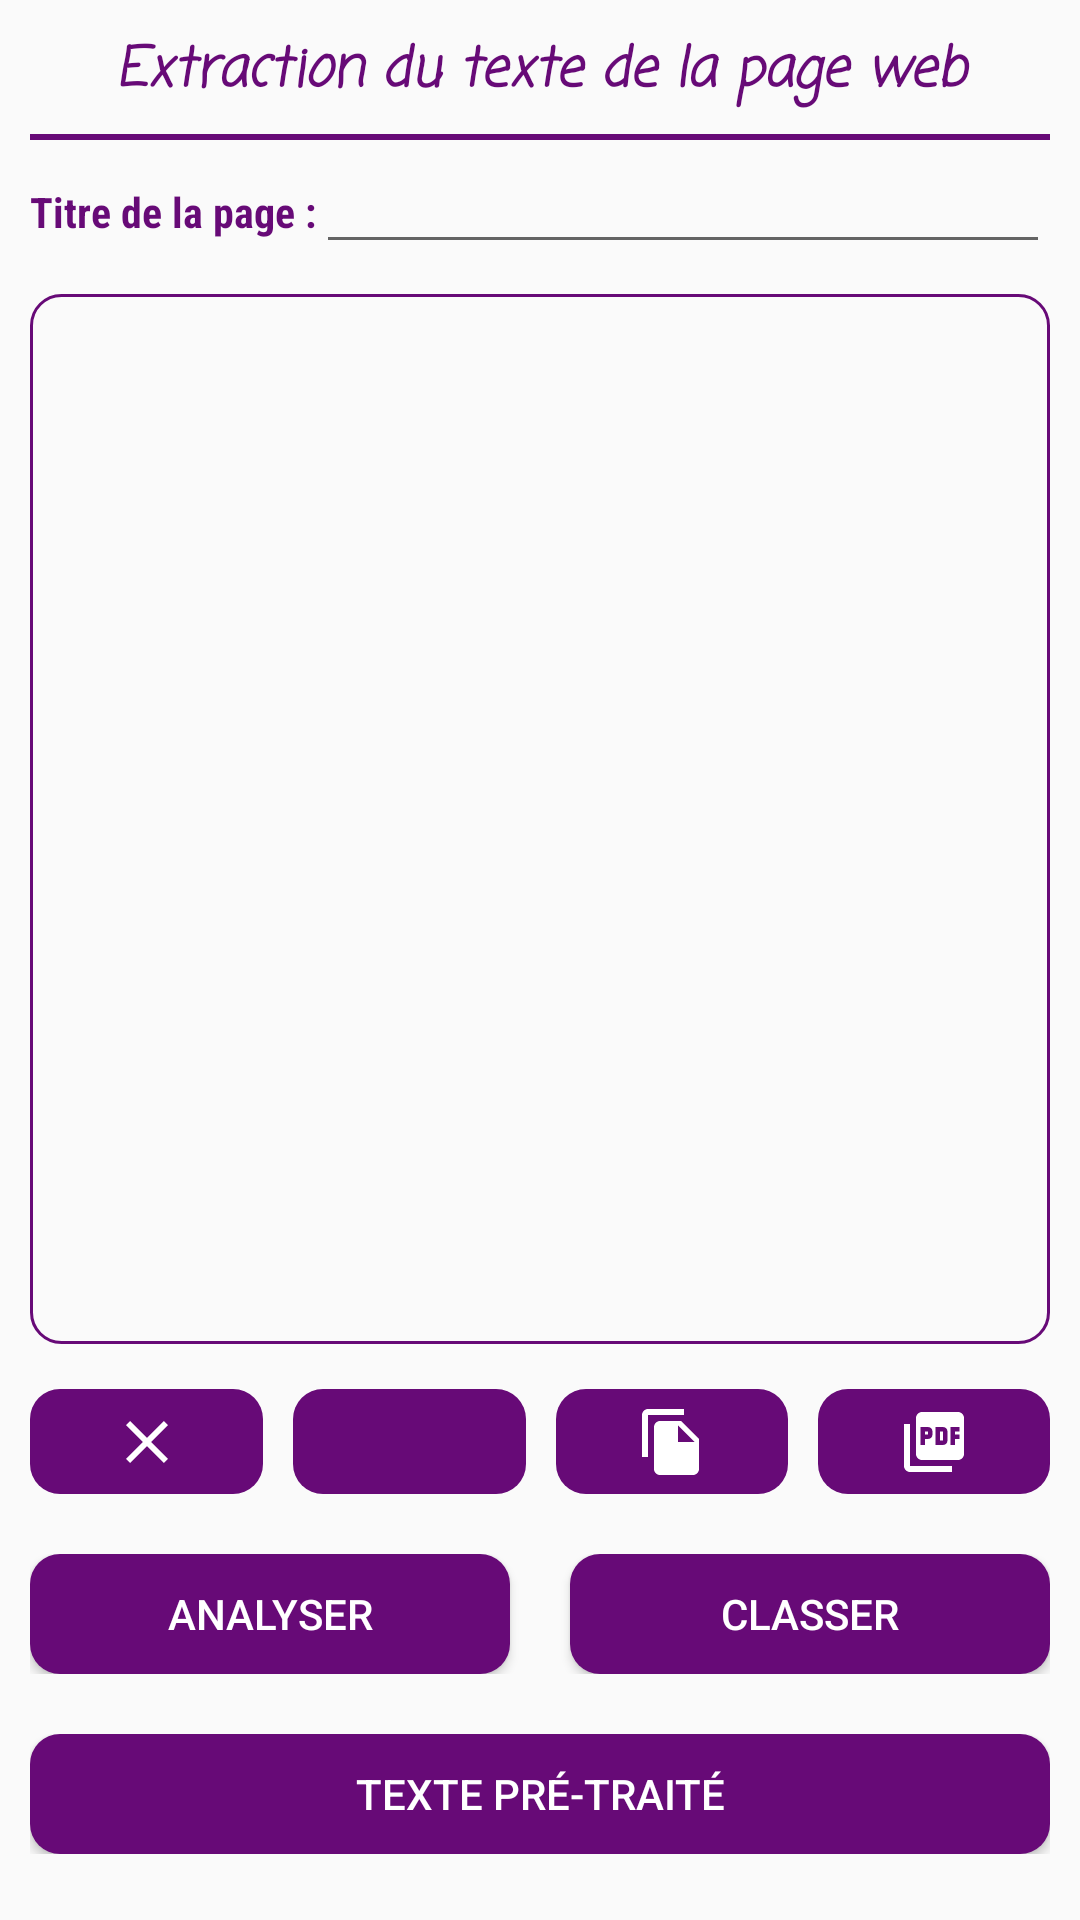

Icons on this 1080 x 1920 Android screen, each with the point to tap as [x,y]:
copier: [672,1441]
fermer: [146,1441]
